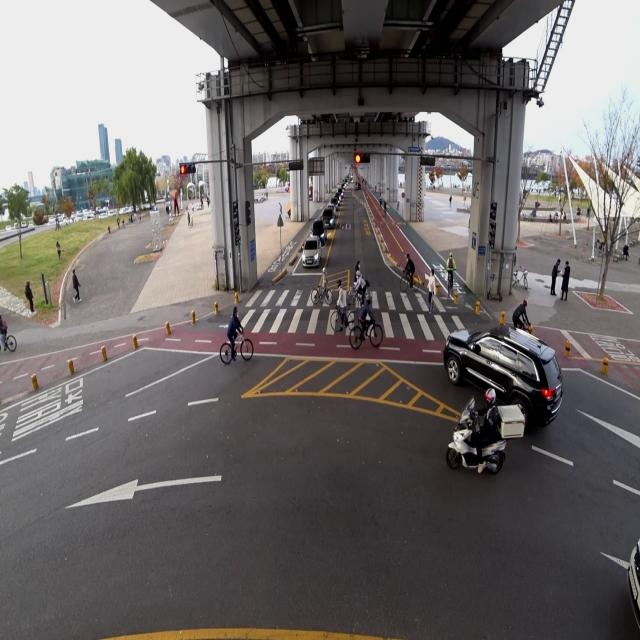Car: (446, 325, 567, 423), (300, 231, 320, 270), (311, 214, 324, 248), (320, 206, 334, 231)
Motorcycle: (445, 384, 522, 475)
